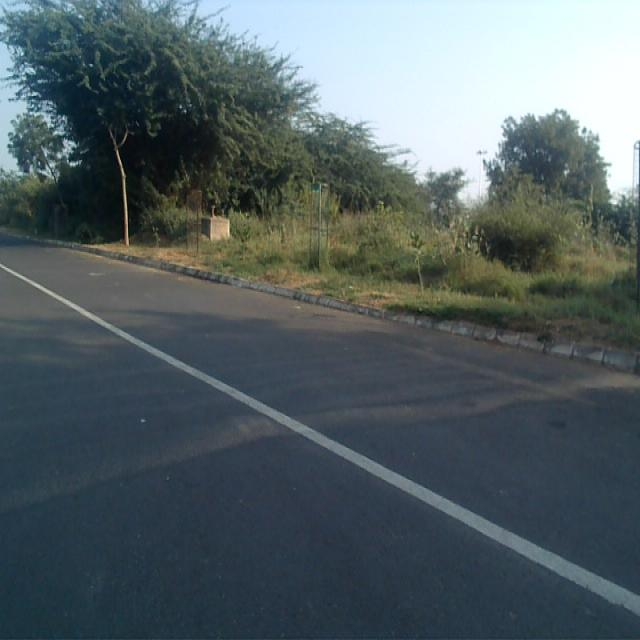lane: (0, 267, 640, 640)
